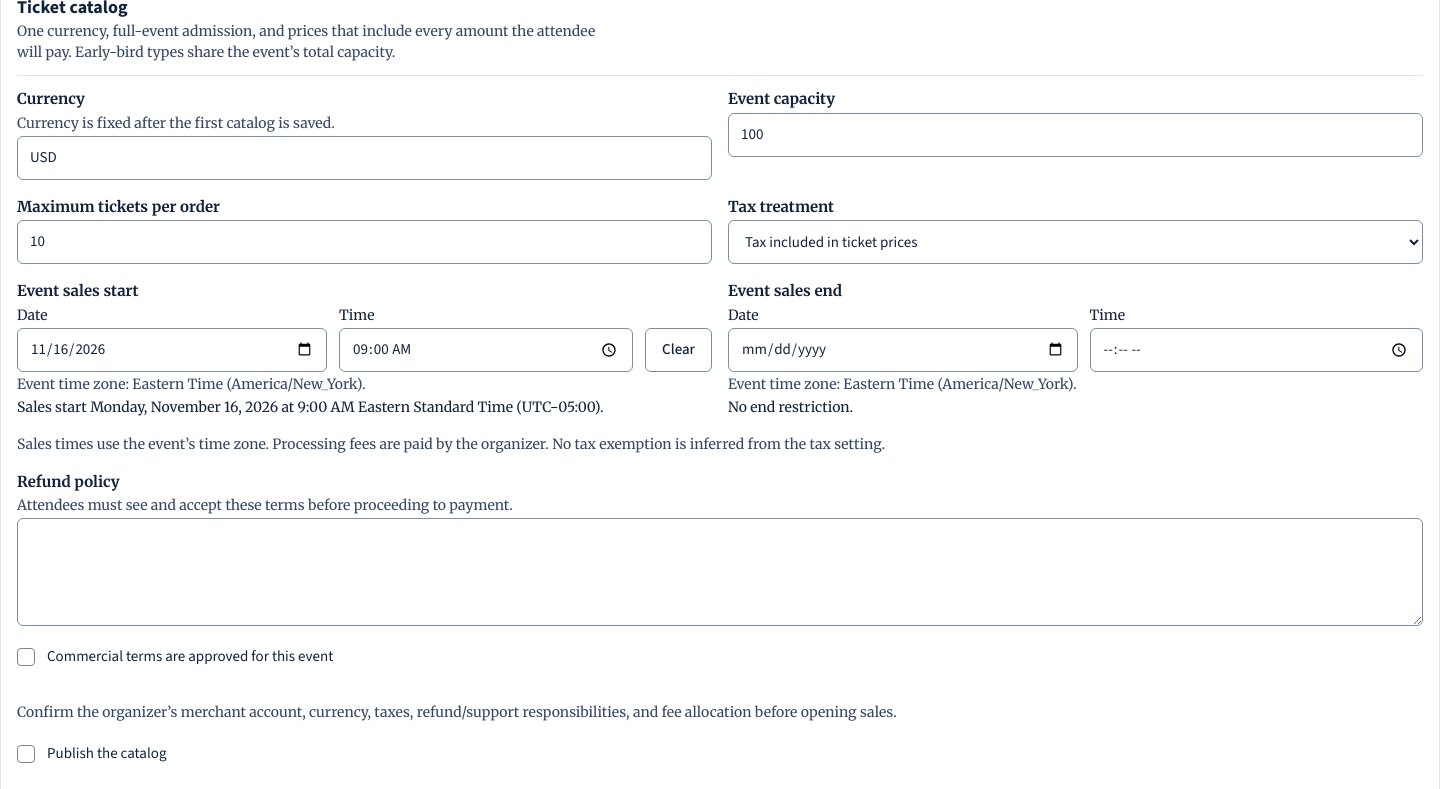
it: catalog sales windows › marks a sales time and a price in one refused save
Type "2027-03-14" into the date field named "Event sales end Date" at (903, 350), box [728, 328, 1078, 372]
(page scrolled)
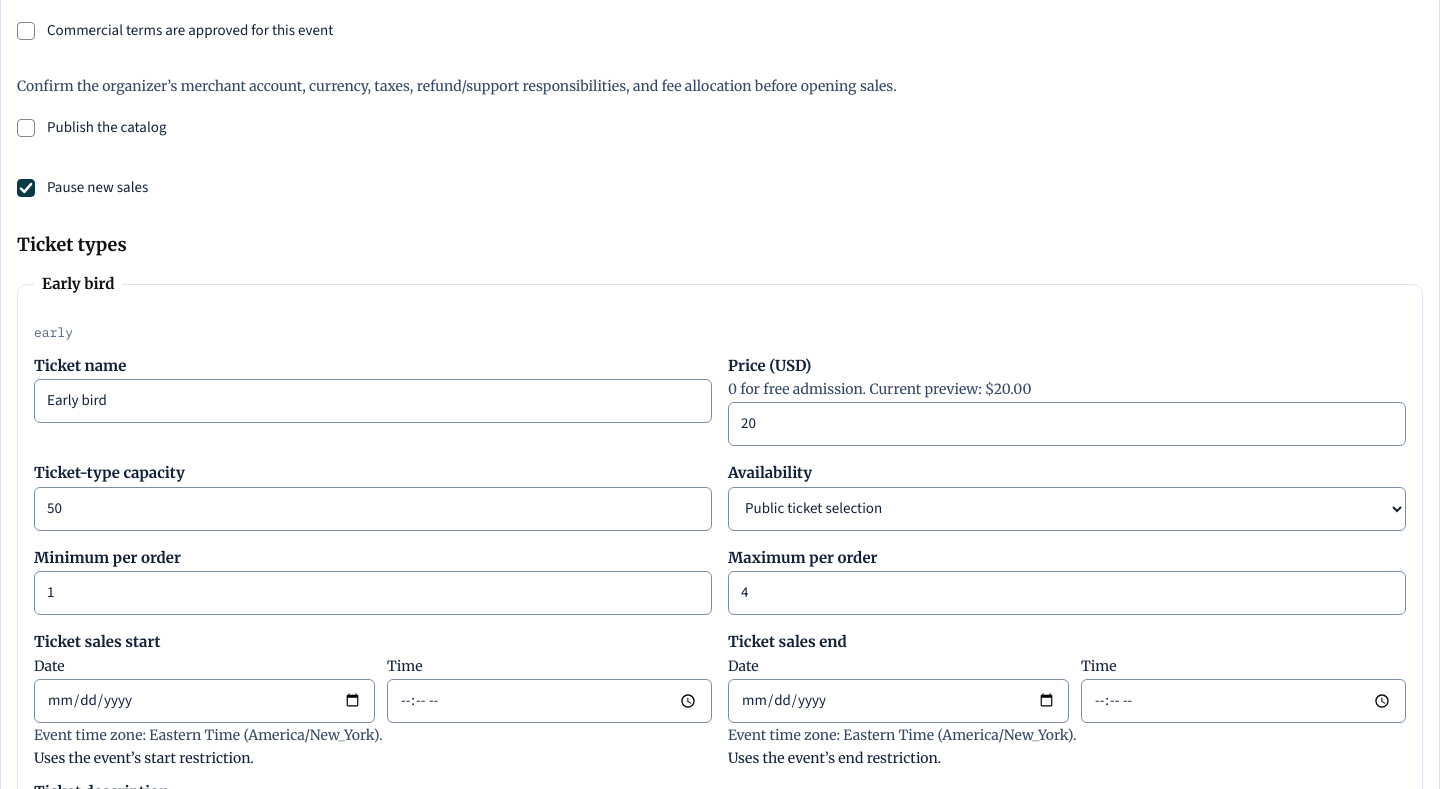
Replace the text in the field labelled "Price (USD)" with "-1" at (1067, 424), box [728, 402, 1406, 446]
(page scrolled)
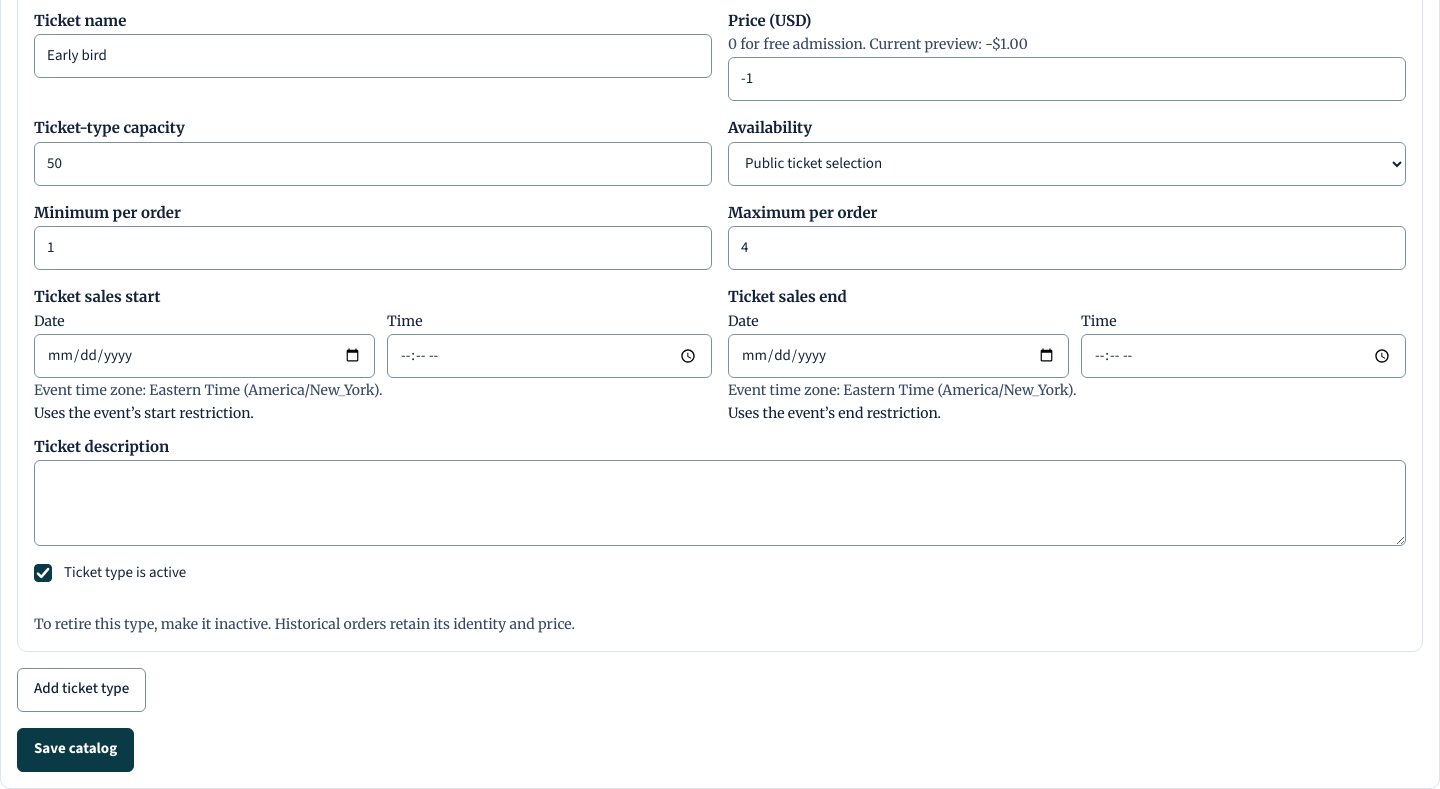
Click the button "Save catalog" at (76, 750), box [17, 728, 134, 772]
(page scrolled)
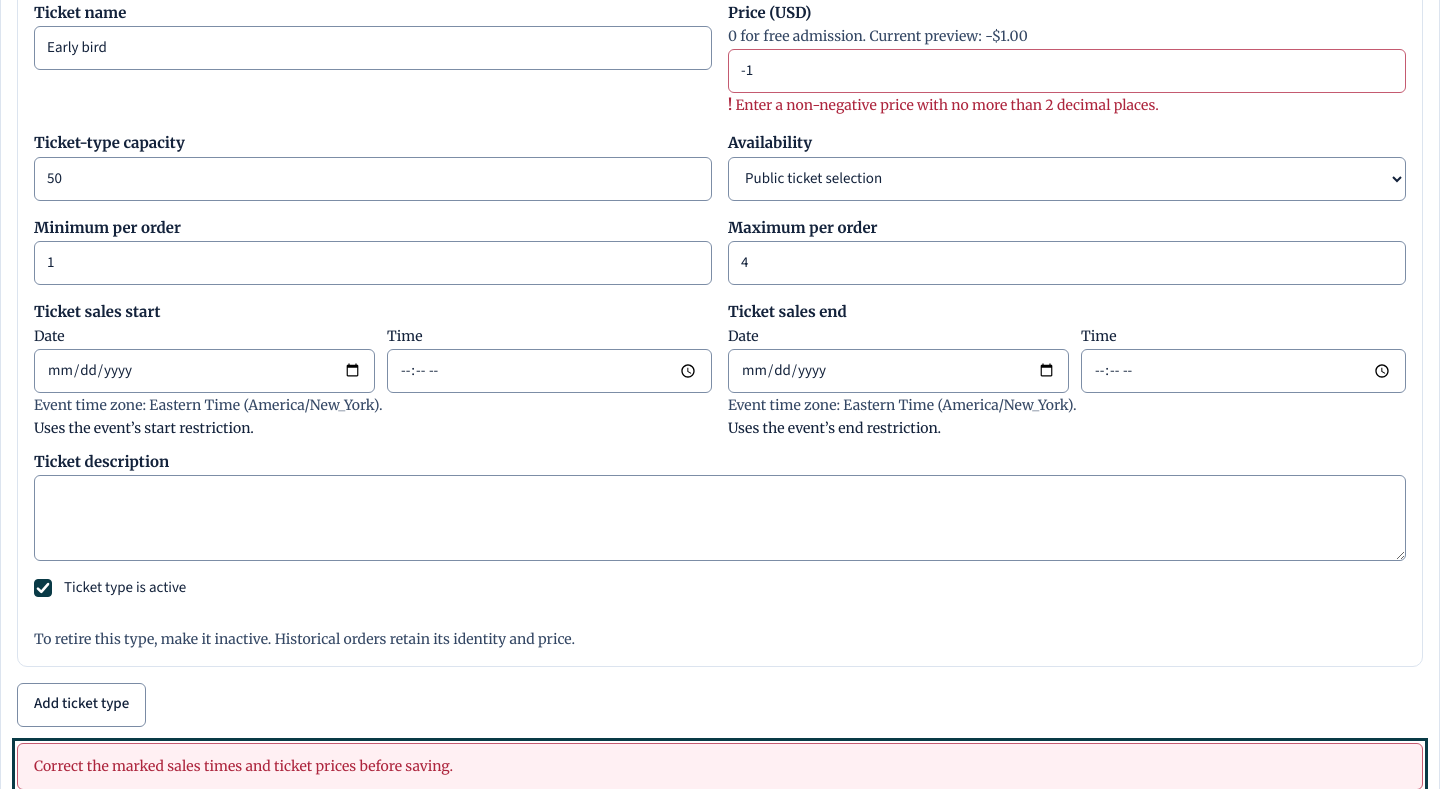
Check: the text "Correct the marked sales times and ticket prices before saving." is shown, box [17, 743, 1423, 788]
Check: the text "Enter a non-negative price" is shown, box [736, 96, 1159, 114]
